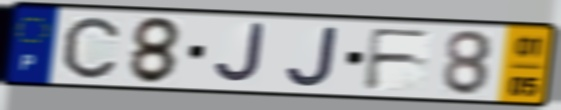8: (126, 14, 184, 87), (440, 27, 496, 98)
C: (61, 15, 123, 82)
F: (361, 26, 436, 92)
J: (283, 24, 341, 89), (211, 21, 267, 87)
